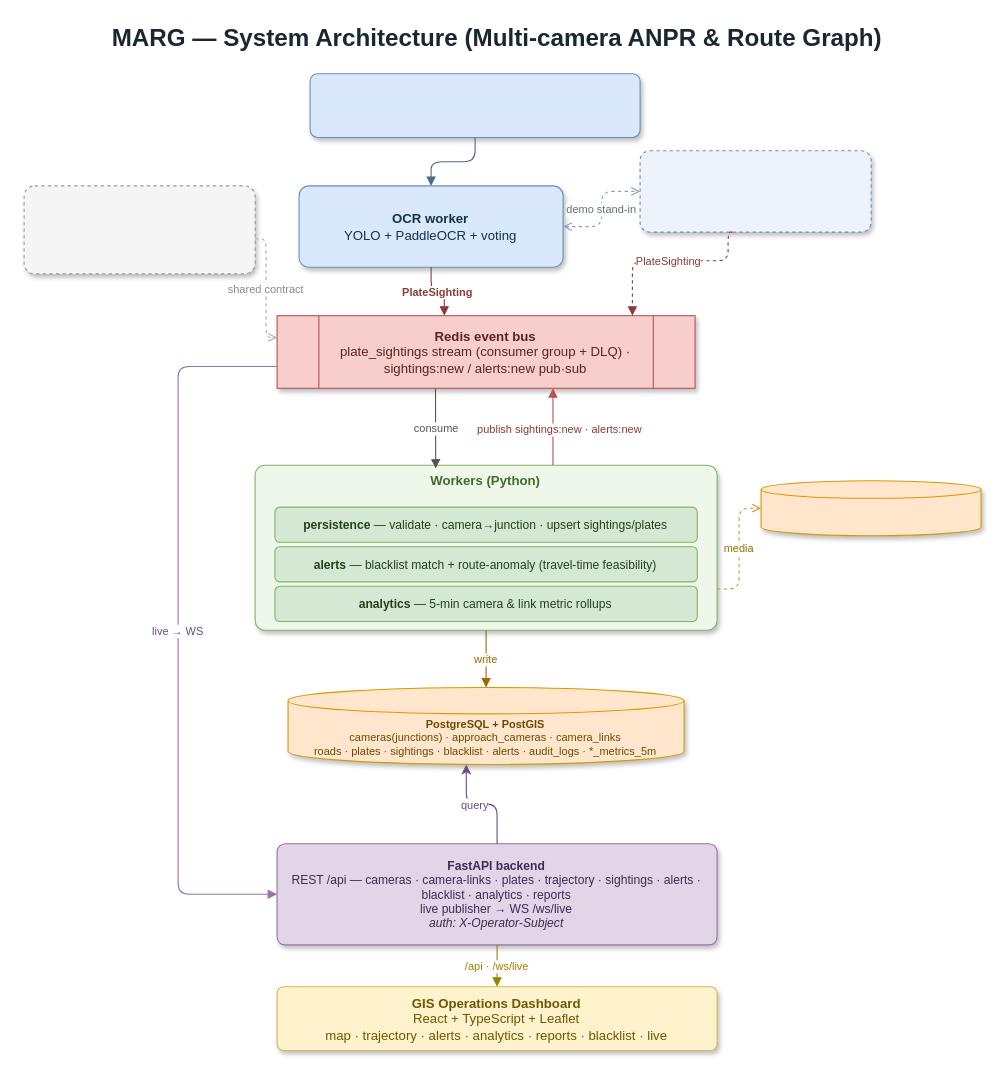
Some shapes in this 1007 by 1078 pixel diagram are drawn without their labels. The centre of each missing label's shape, as x and y in pixels:
"anpr_common PlateSighting contract + DB layer (shared)" goes at (x=140, y=231).
"MinIO / S3 plate crops · clips" goes at (x=872, y=509).
"Per-approach cameras one per junction arm · incoming left carriageway" goes at (x=476, y=106).
"Producer — demo feed synthetic corridor trips (stands in for OCR)" goes at (x=756, y=192).
